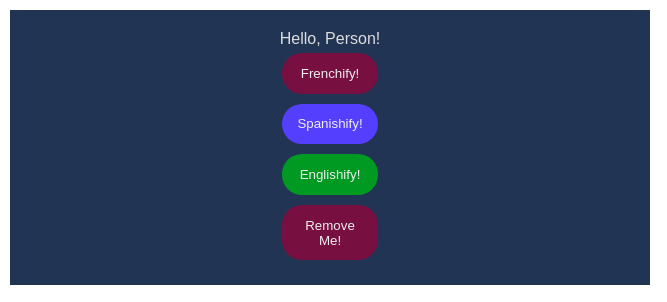
it: HelloWorld › modifies the greeting when frenchify/spanishify/englishify button is clicked
This screenshot has width=667, height=302.
Note: french button
What coordinates should you click on to do the following:
click the button with class "frenchify"
I would click on:
 (330, 73)
Its box is x1=282 y1=53 x2=378 y2=94.
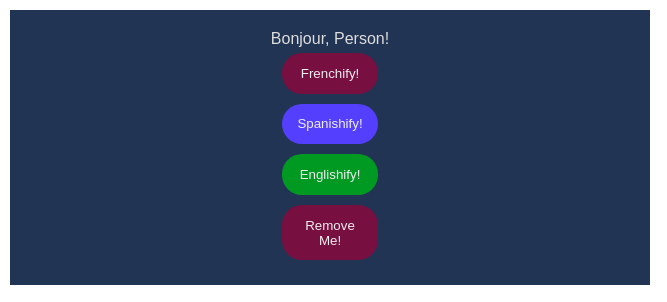
Result: the text "Bonjour" is shown at x1=271 y1=30 x2=325 y2=47
Note: spanish button
What coordinates should you click on to do the following:
click the button with class "spanishify"
I would click on:
 (330, 124)
Its box is x1=282 y1=104 x2=378 y2=144.
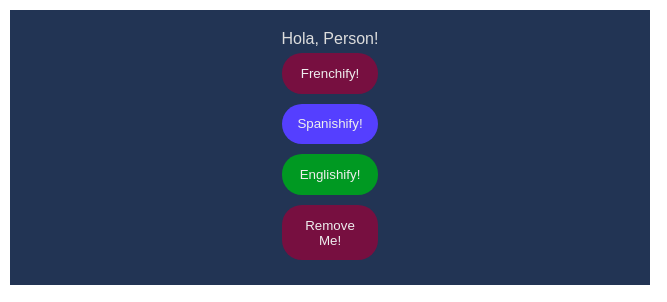
Result: the text "Hola" is shown at x1=282 y1=30 x2=314 y2=47
Note: english button
What coordinates should you click on to do the following:
click the button with class "englishify"
I would click on:
 (330, 174)
Its box is x1=282 y1=154 x2=378 y2=195.
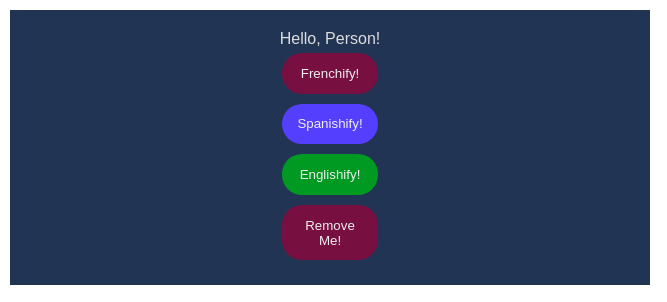
Result: the text "Hello" is shown at x1=280 y1=30 x2=316 y2=47
